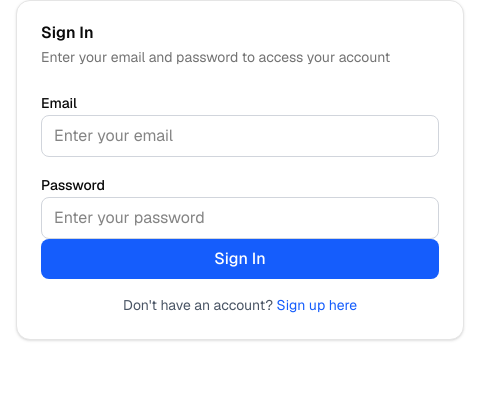
Test: Authentication Tests › LoginForm Component › displays validation error for invalid email format
Type "invalid-email" into the field labelled "Email" at (240, 136), box [41,115,439,157]
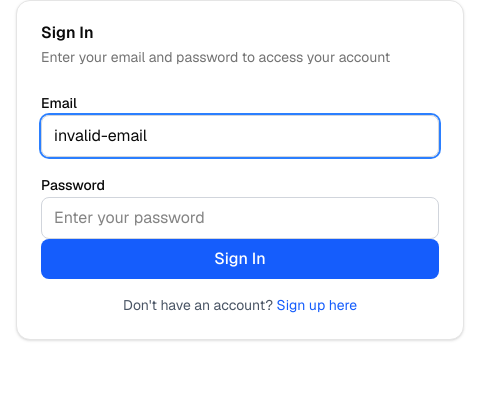
Click the button "Sign In" at (240, 259), box [41,239,439,279]
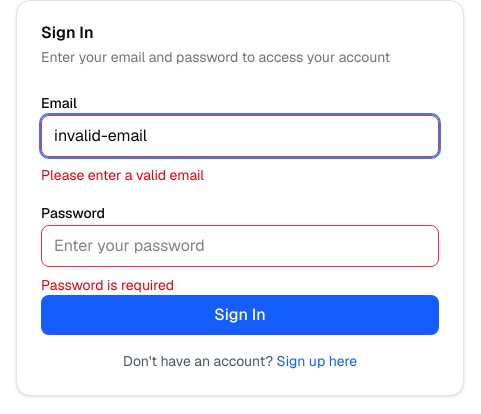
Result: the text "Please enter a valid email" is shown at [41,166,204,184]
